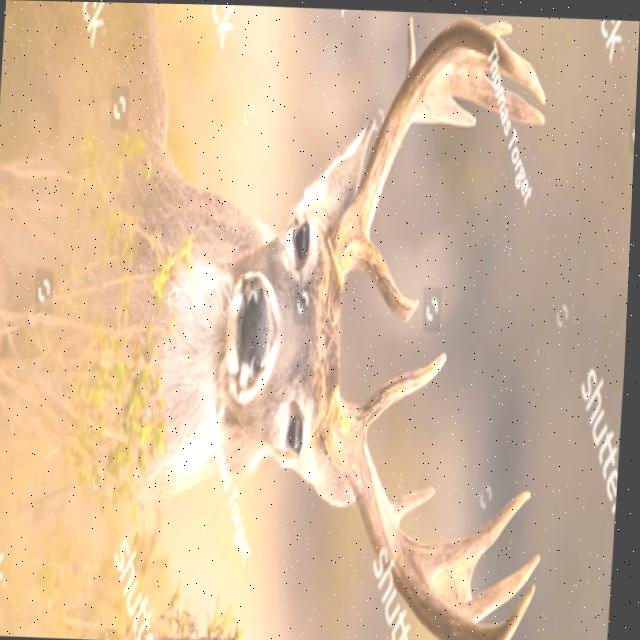L-F: (323, 382, 544, 640)
L-G1: (360, 343, 451, 442)
L-G2: (393, 481, 440, 522)
L-G3: (417, 482, 540, 575)
L-G4: (446, 549, 548, 619)
R-F: (327, 10, 547, 287)
R-G1: (358, 231, 423, 320)
R-G2: (410, 92, 480, 124)
R-G3: (425, 61, 550, 125)
